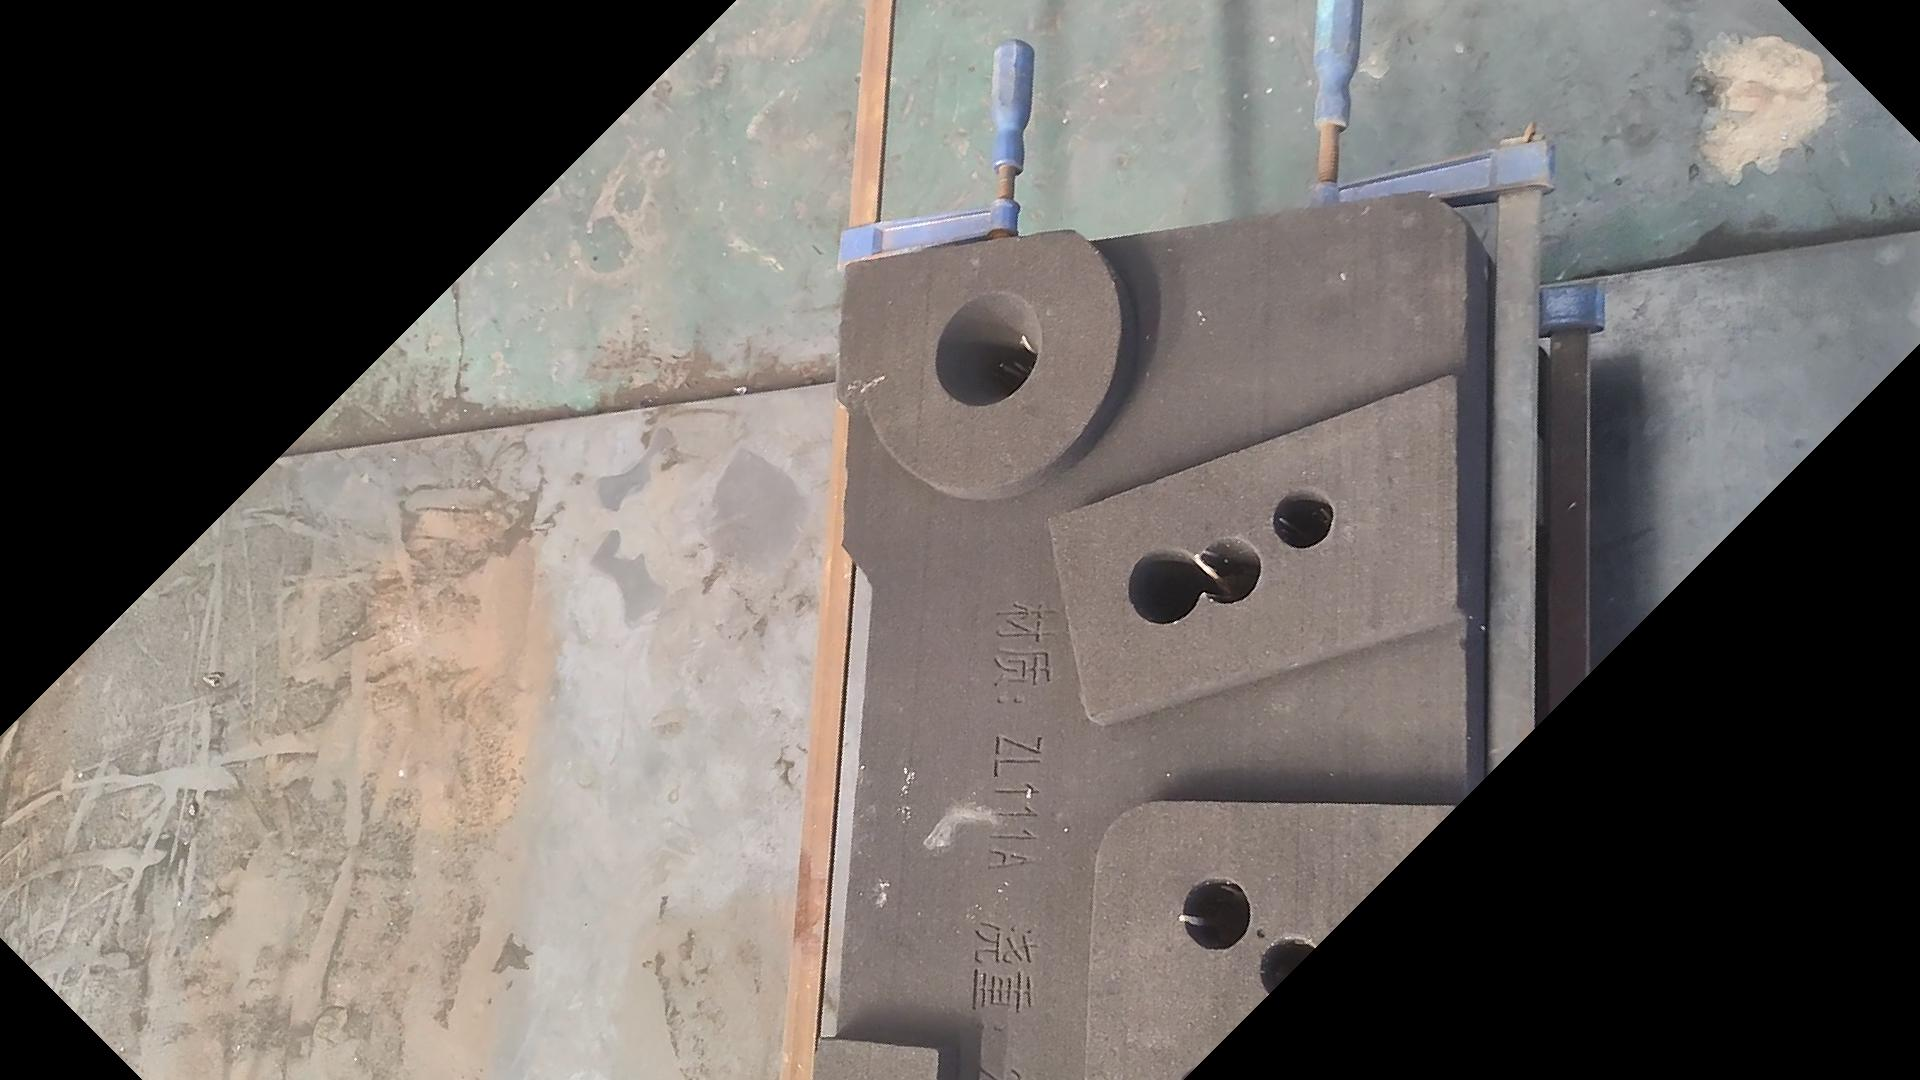pouring hole: (935, 291, 1040, 406)
